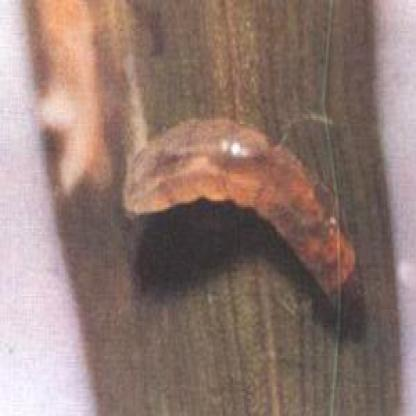whorl-maggot: (120, 108, 360, 304)
